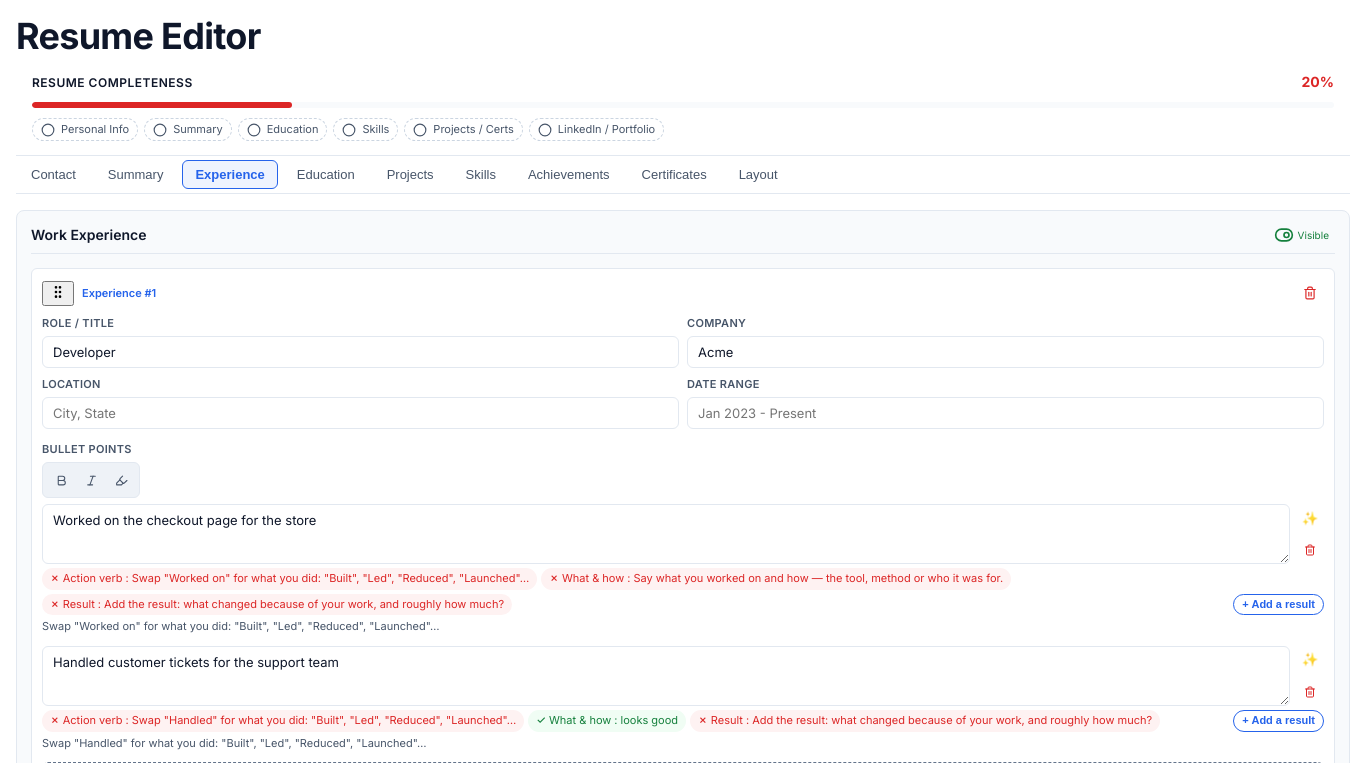
Scenario: AI bullet results arriving late › flags vague claims in the suggestion before it is used
Click the 1st button titled "Enhance bullet point with AI".
click(1310, 518)  # box [1296,504,1324,532]
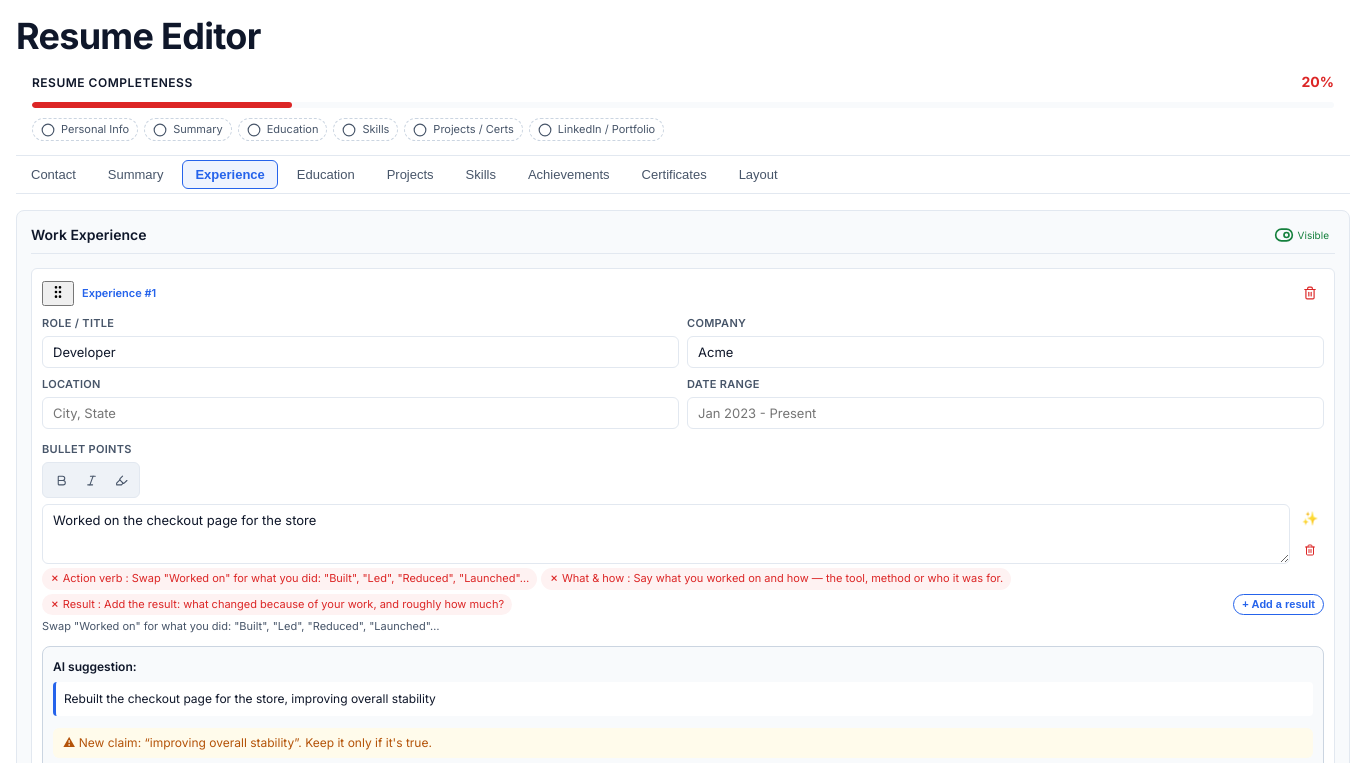
Check: the text "improving overall stability" is shown, box [144,735,298,750]
